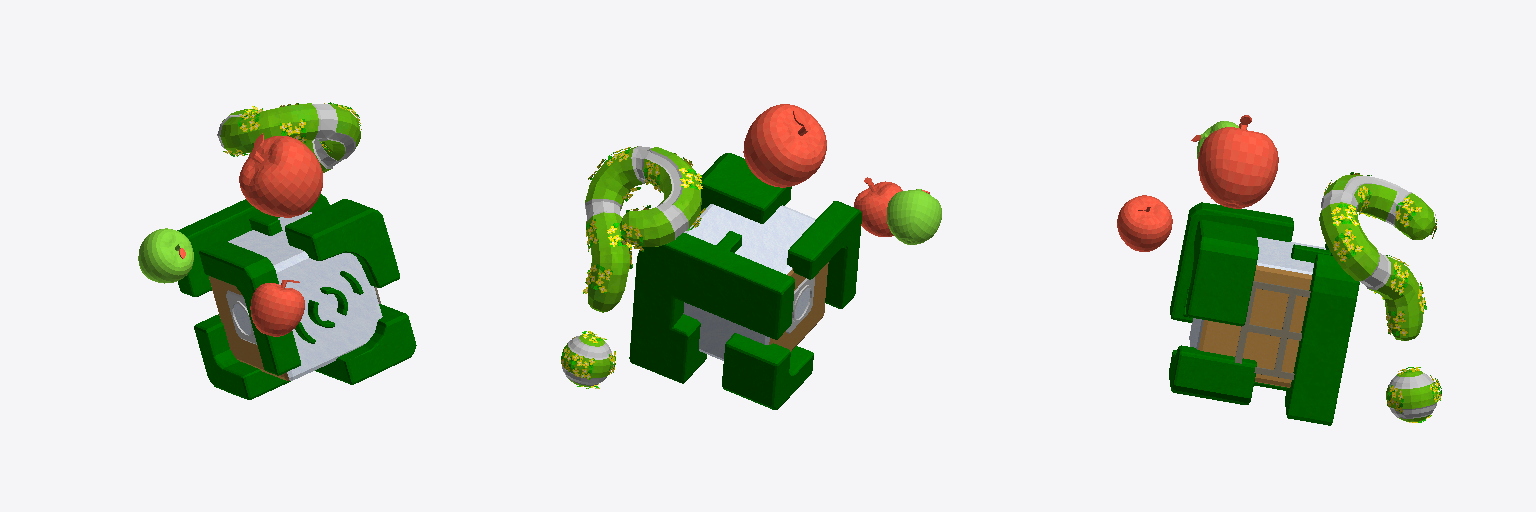
3 renders of one model, left to right at view 1: azimuth 30°, elevation 25°; view 2: azimuth 150°, elevation 25°; view 3: azimuth 270°, elevation 25°, orthographic.
Visible parts, largest first — view 1: m2, m5, m8, m6, m11, m4, m7, m10, m1; view 2: m2, m6, m8, m5, m7, m10, m11, m4, m1; view 3: m2, m8, m6, m4, m7, m10, m0, m5.
Part boxes in pixels (x1,y1,x2,y2): m2: (177, 194, 416, 399); m5: (228, 211, 382, 380); m8: (239, 136, 322, 336); m6: (220, 103, 360, 172); m11: (138, 228, 193, 283); m4: (209, 276, 289, 380); m7: (217, 104, 355, 168); m10: (223, 102, 361, 156); m1: (226, 290, 256, 344); m2: (629, 153, 861, 409); m6: (561, 146, 701, 386); m8: (743, 104, 902, 236); m5: (683, 204, 815, 360); m7: (562, 146, 688, 385); m10: (561, 147, 706, 388); m11: (887, 189, 941, 244); m4: (769, 262, 828, 351); m1: (786, 277, 814, 333); m2: (1169, 202, 1359, 425); m8: (1117, 123, 1278, 251); m6: (1319, 175, 1437, 421); m4: (1198, 265, 1311, 387); m7: (1321, 176, 1436, 418); m10: (1324, 172, 1441, 422); m0: (1235, 281, 1310, 379); m5: (1189, 237, 1325, 349).
Size of the model in its own units: 39.22 by 36.16 by 39.08.
Materials: 12 (8 with a texture image).